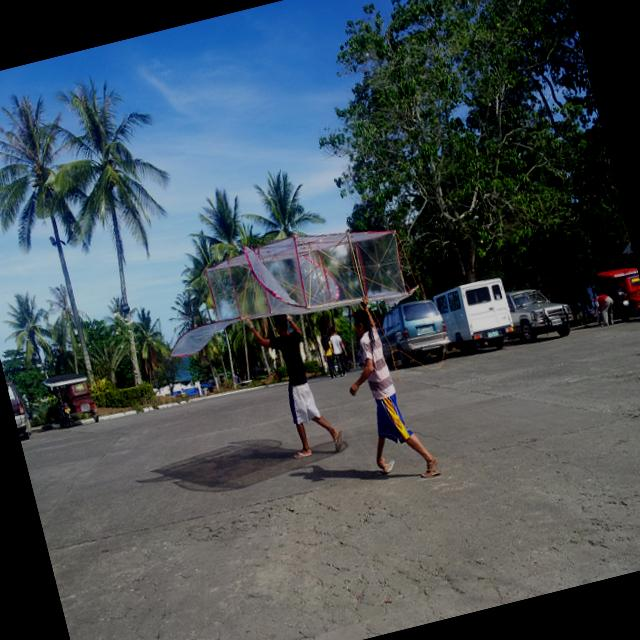Vehicle: (430, 274, 518, 360), (374, 294, 454, 375), (374, 295, 454, 372), (506, 279, 578, 347), (36, 368, 99, 434), (589, 262, 640, 330), (4, 374, 34, 439)
